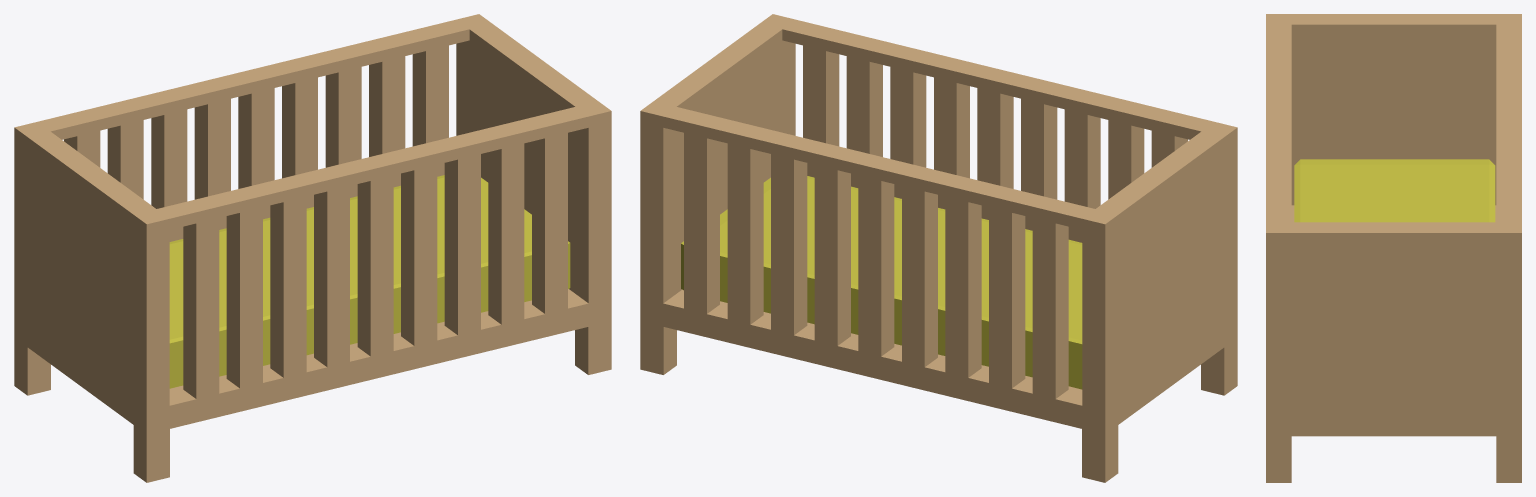
The model's file is LitBebe.fbx.
3 renders of one model, left to right at view 1: azimuth 30°, elevation 25°; view 2: azimuth 150°, elevation 25°; view 3: azimuth 270°, elevation 25°, orthographic. The views are drawn at different scales.
Visible parts, largest first — view 1: LitBebe; view 2: LitBebe; view 3: LitBebe.
Part boxes in pixels (left/top/right/bottom): LitBebe: left=14, top=14, right=611, bottom=482; LitBebe: left=640, top=14, right=1237, bottom=482; LitBebe: left=1266, top=14, right=1521, bottom=482.
Bounding box in the file's own units: 405 × 215 × 200.
